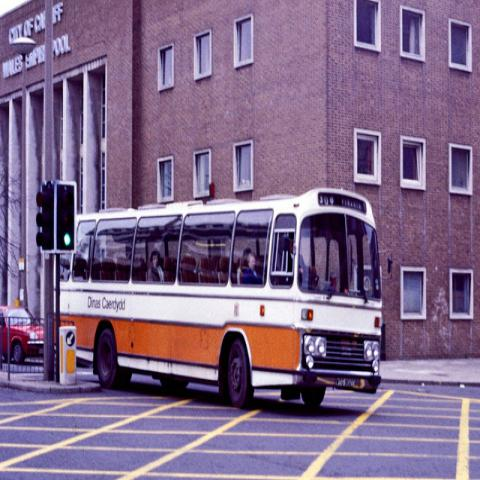bus: (59, 184, 384, 409)
car: (1, 306, 45, 366)
